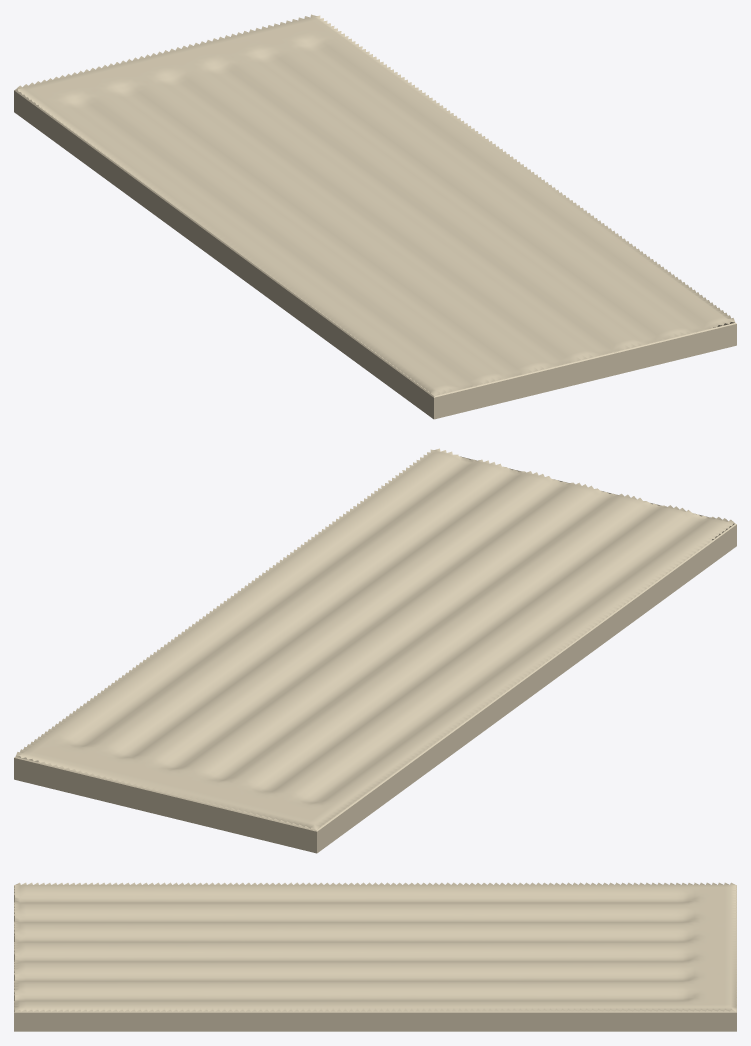
Rendered from mahsulot.glb.
3 views of the same model, one above another, from view 1: azimuth 30°, elevation 25°; view 2: azimuth 150°, elevation 25°; view 3: azimuth 270°, elevation 25° (orthographic). The views are drawn at different scales.
Parts seen in each view (by area): view 1: mahsulot; view 2: mahsulot; view 3: mahsulot.
Boxes of the visible parts, x1,y1,x2,y2 form: mahsulot: [14, 14, 736, 419]; mahsulot: [14, 448, 736, 853]; mahsulot: [14, 882, 736, 1031].
Size of the model in its own units: 0.5 by 0.0399 by 1.2.
